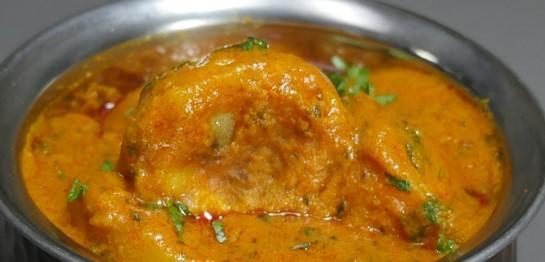DumAloo: (16, 20, 508, 262)
